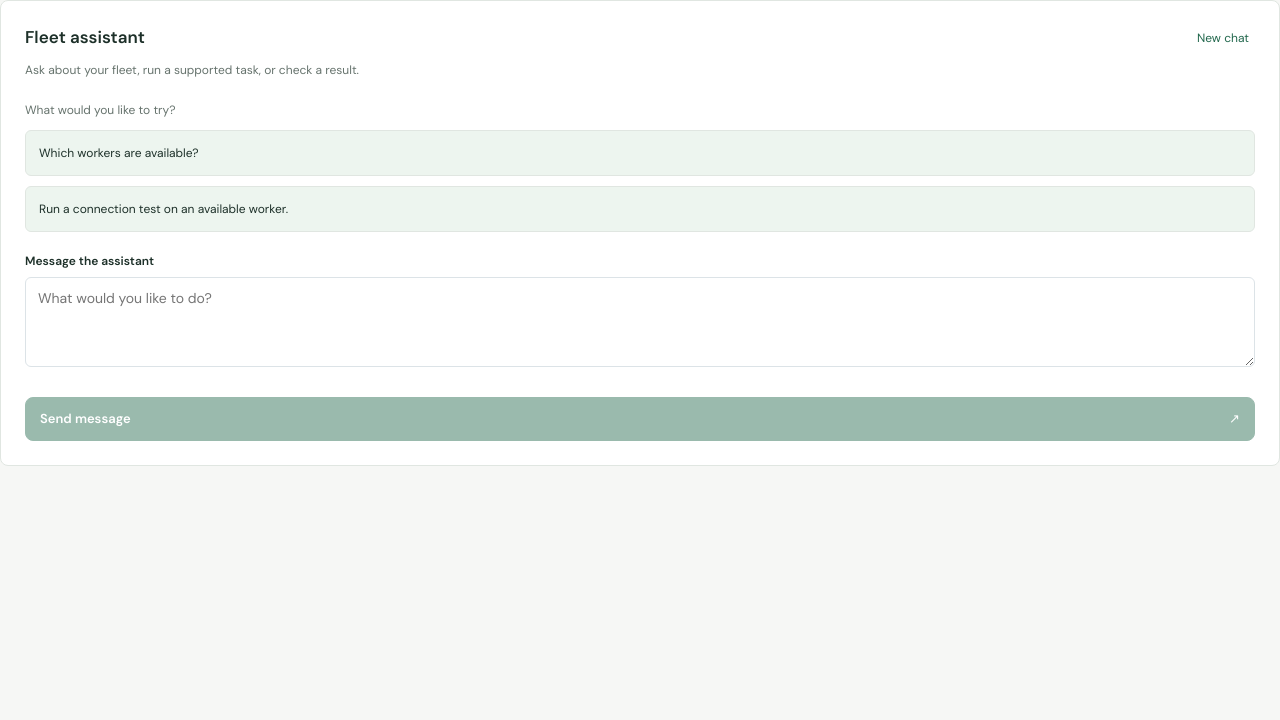
Test: fleet assistant › stops polling and restores the draft when the server rejects a message
Type "One more question" into the text box labelled "Message the assistant".
click(640, 322); type("One more question")  # box [25,277,1255,367]
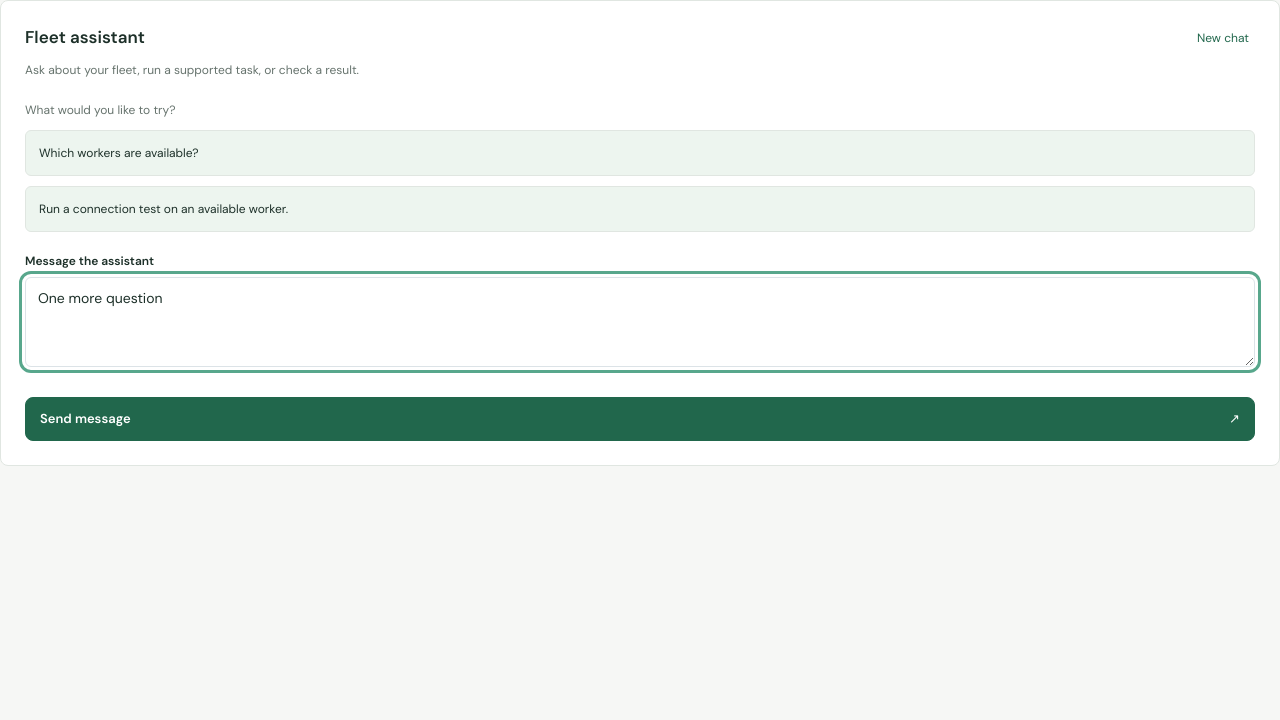
Click the button "Send message ↗".
click(85, 419)  # box [25,397,1255,441]
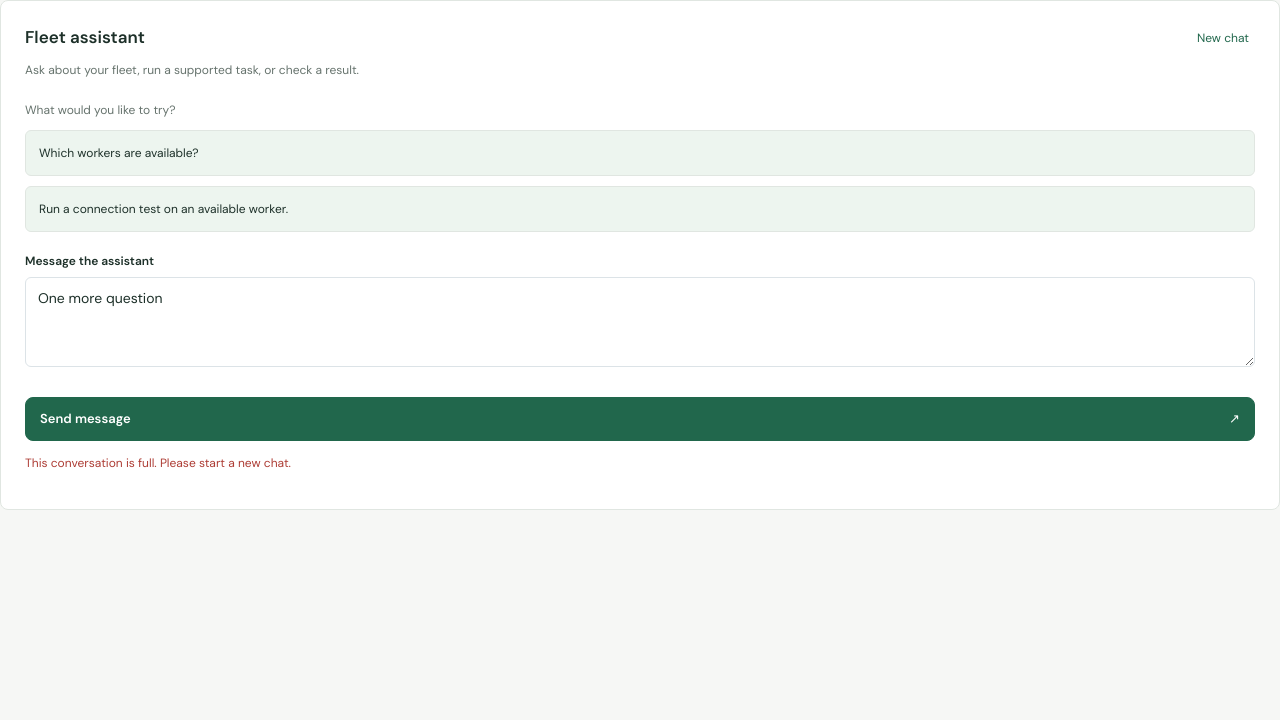
Expected: the text box labelled "Message the assistant" is enabled, [25,277,1255,367]
Now the message shows "This conversation is full", box [25,455,291,471]
